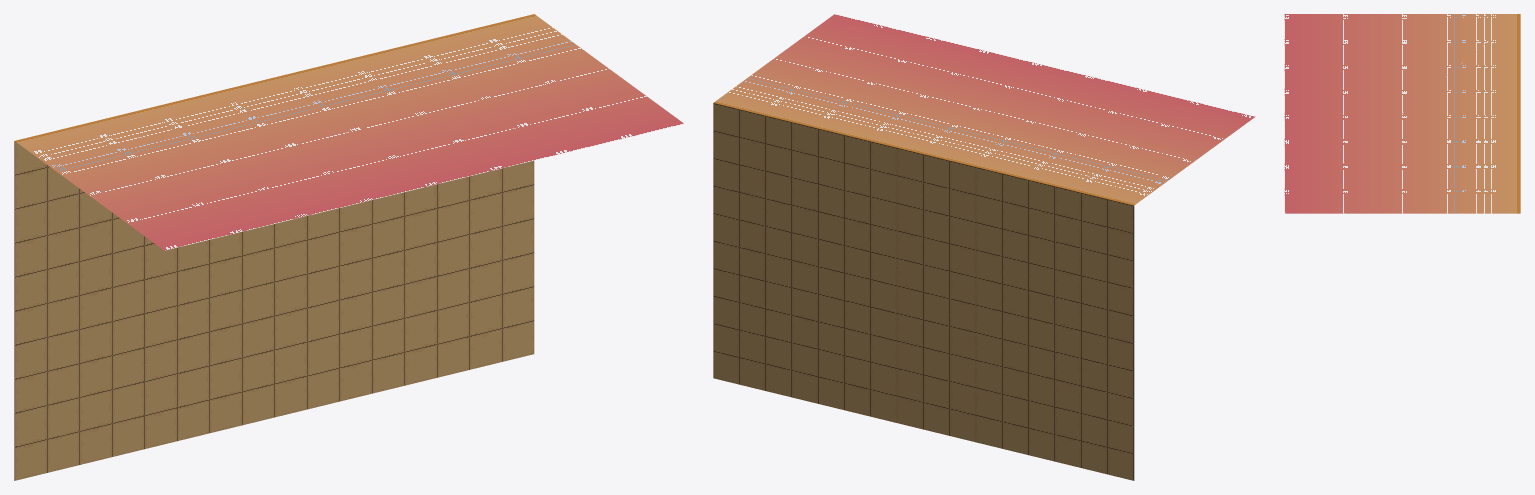
File: dev_layoutMeasures.glb
3 renders of one model, left to right at view 1: azimuth 30°, elevation 25°; view 2: azimuth 150°, elevation 25°; view 3: azimuth 270°, elevation 25°, orthographic. The views are drawn at different scales.
Parts seen in each view (by area): view 1: dev_measures.002; view 2: dev_measures.002; view 3: dev_measures.002.
Boxes of the visible parts, <box> form: dev_measures.002: <box>14,14,683,480</box>; dev_measures.002: <box>713,14,1255,480</box>; dev_measures.002: <box>1284,14,1520,213</box>.
Size of the model in its own units: 512 by 320 by 256.
Materials: 2 (2 with a texture image).
